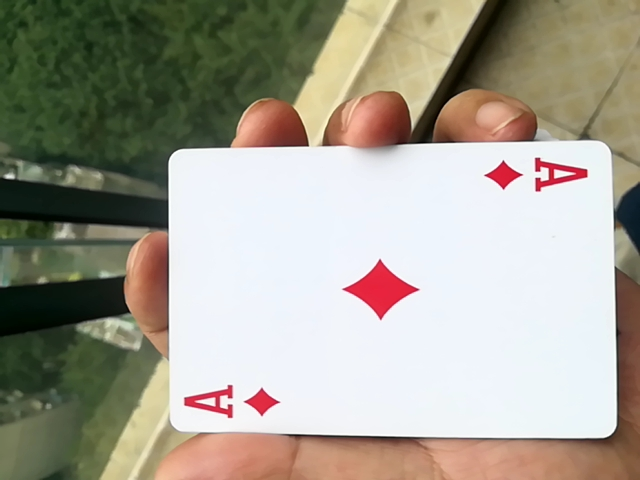fk a: (155, 139, 616, 451)
